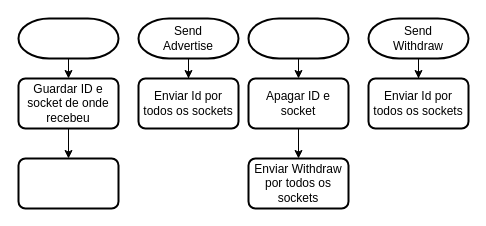
Some shapes in this 486 by 226 pixel diagram are drawn without their labels. Each missing label, with the box of its shape:
Enviar advertise por todos os sockets: (17, 157, 119, 209)
Recieve Advertise: (17, 17, 119, 59)
Recieve Withdraw: (247, 17, 349, 59)
